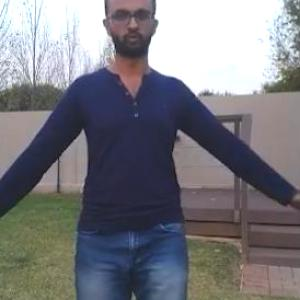land: (0, 0, 273, 299)
